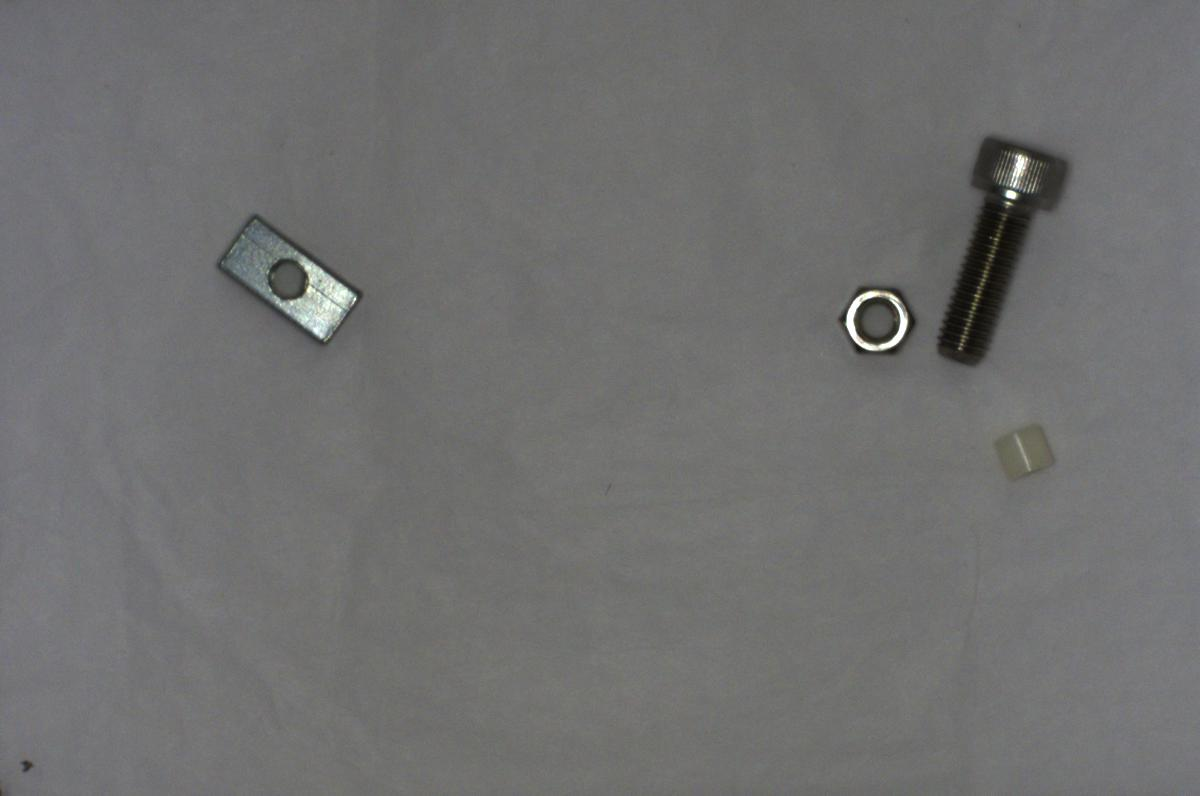Hexagon nut: (822, 274, 919, 365)
Hexagon screw: (919, 128, 1062, 367)
Plastic cushion pillar: (994, 416, 1068, 490)
Rectangular nut: (201, 209, 367, 346)
